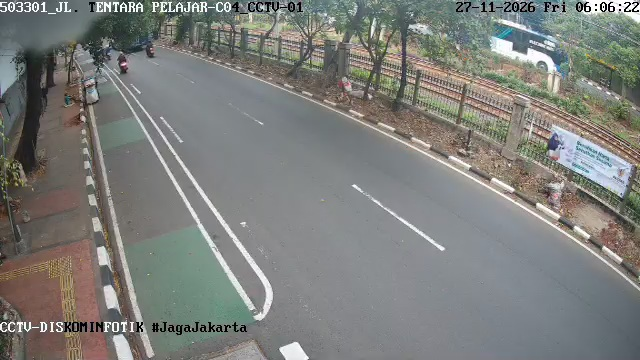Gerobak: (81, 75, 100, 105)
